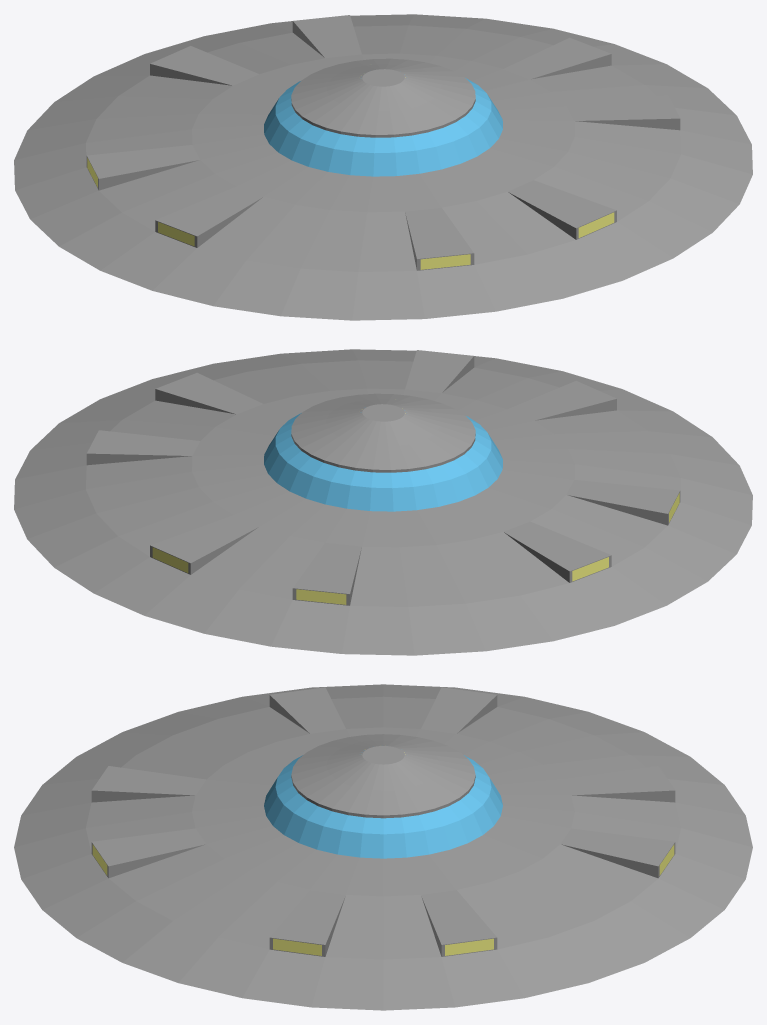
Rendered from ufo.glb.
3 views of the same model, one above another, from view 1: azimuth 30°, elevation 25°; view 2: azimuth 150°, elevation 25°; view 3: azimuth 270°, elevation 25° (orthographic). The views are drawn at different scales.
Visible parts, largest first — view 1: Cylinder; view 2: Cylinder; view 3: Cylinder.
Boxes of the visible parts, <box> form: Cylinder: <box>14,14,752,320</box>; Cylinder: <box>14,349,752,655</box>; Cylinder: <box>14,684,752,1010</box>.
Bounding box in the file's own units: 2.06 × 0.5364 × 1.97.
Materials: 1 (1 with a texture image).
